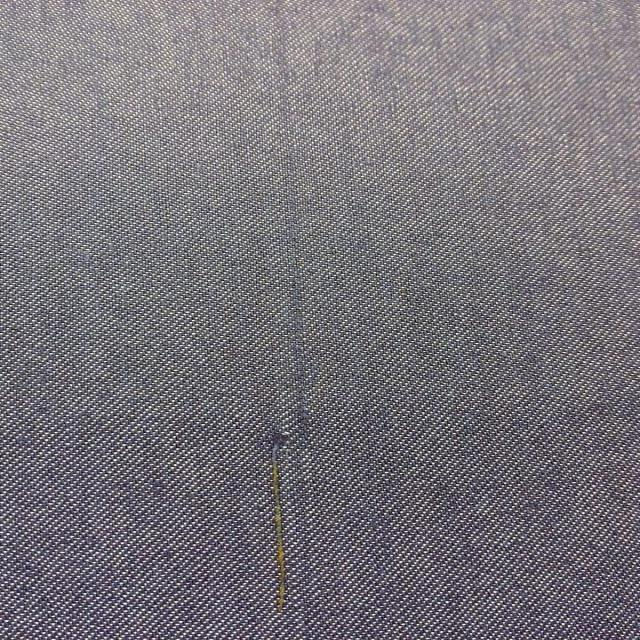Line: (270, 0, 315, 637), (266, 436, 287, 613)
